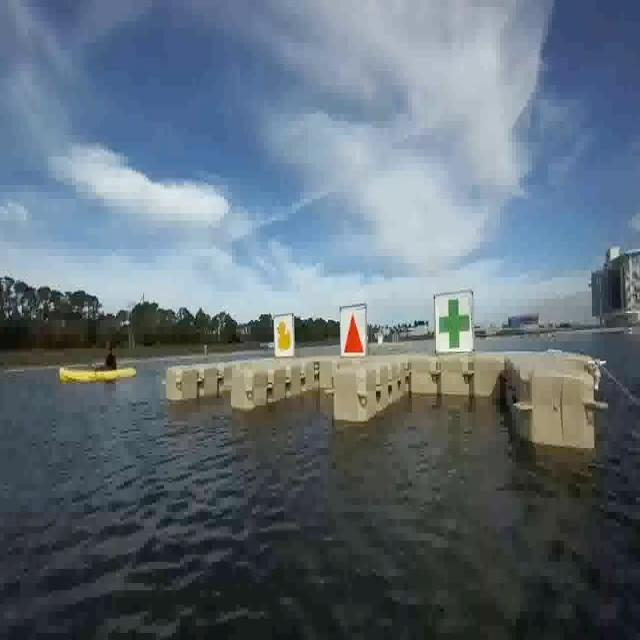blue-cross: (434, 293, 471, 356)
red-dot: (340, 306, 369, 357)
yellow-duck: (273, 313, 295, 355)
